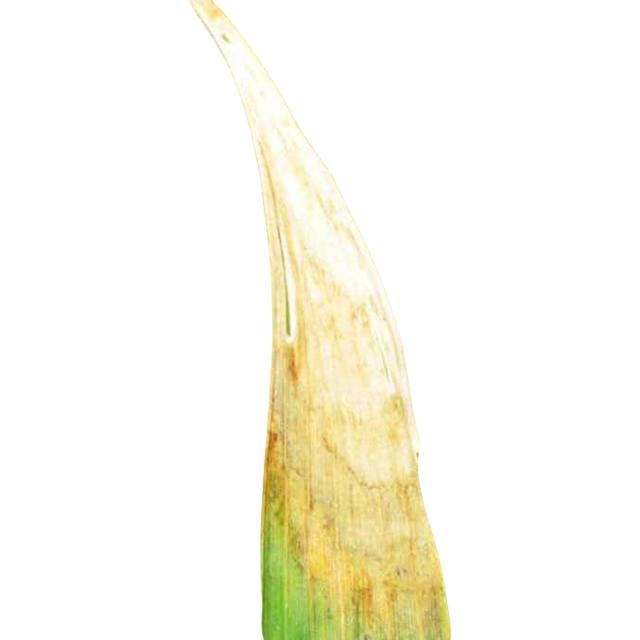Leaf scald: (166, 0, 558, 640)
